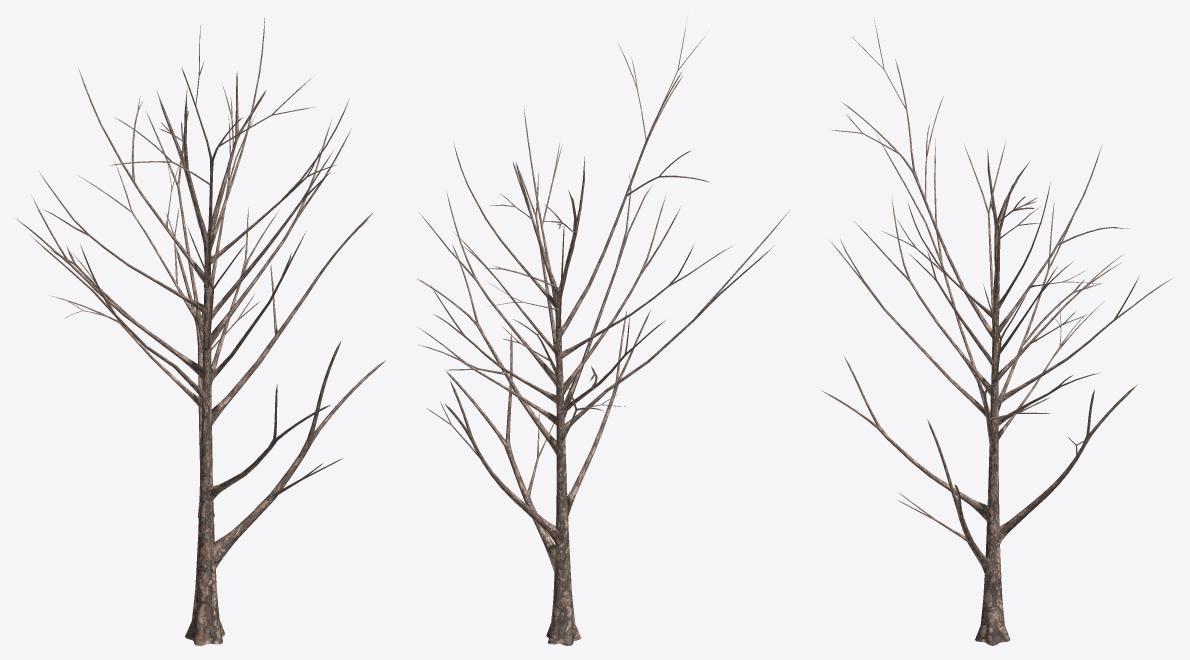
Rendered from Tree6.glb.
3 views of the same model, side by side, from view 1: azimuth 30°, elevation 25°; view 2: azimuth 150°, elevation 25°; view 3: azimuth 270°, elevation 25° (orthographic). The views are drawn at different scales.
Visible parts, largest first — view 1: bottom_trunk, polySurface1, polySurface35, polySurface5, polySurface7, polySurface4, polySurface51, polySurface36, polySurface50, polySurface21, polySurface9, polySurface3 (+9 smaller); view 2: bottom_trunk, polySurface1, polySurface20, polySurface35, polySurface4, polySurface36, polySurface37, polySurface7, polySurface6, polySurface63, polySurface3, polySurface22 (+5 smaller); view 3: bottom_trunk, polySurface20, polySurface4, polySurface1, polySurface36, polySurface5, polySurface6, polySurface37, polySurface2, polySurface35, polySurface21, polySurface63 (+3 smaller).
Part boxes in pixels (x1,y1,x2,y2): bottom_trunk: (185, 313, 225, 645); polySurface1: (210, 341, 385, 569); polySurface35: (210, 213, 372, 425); polySurface5: (16, 195, 205, 378); polySurface7: (210, 120, 351, 345); polySurface4: (202, 384, 330, 504); polySurface51: (156, 87, 207, 243); polySurface36: (29, 234, 210, 402); polySurface50: (207, 71, 266, 238); polySurface21: (78, 161, 203, 334); polySurface9: (78, 68, 204, 283); polySurface3: (39, 172, 208, 314); bottom_trunk: (546, 357, 580, 645); polySurface1: (444, 332, 555, 571); polySurface20: (444, 381, 564, 545); polySurface35: (416, 244, 558, 454); polySurface4: (567, 309, 650, 516); polySurface36: (562, 210, 789, 433); polySurface37: (564, 174, 652, 418); polySurface7: (419, 190, 557, 386); polySurface6: (563, 195, 679, 395); polySurface63: (560, 182, 632, 337); polySurface3: (558, 243, 732, 359); polySurface22: (417, 327, 559, 425); bottom_trunk: (975, 361, 1010, 645); polySurface20: (992, 384, 1137, 545); polySurface4: (821, 355, 991, 521); polySurface1: (927, 419, 997, 581); polySurface36: (876, 134, 990, 412); polySurface5: (998, 200, 1100, 411); polySurface6: (854, 196, 991, 396); polySurface37: (829, 239, 993, 420); polySurface2: (995, 276, 1172, 406); polySurface35: (958, 352, 1049, 458); polySurface21: (998, 254, 1123, 380); polySurface63: (919, 188, 994, 340).
Size of the model in its own units: 4.32 by 7.5 by 4.08.
Materials: 1 (1 with a texture image).
